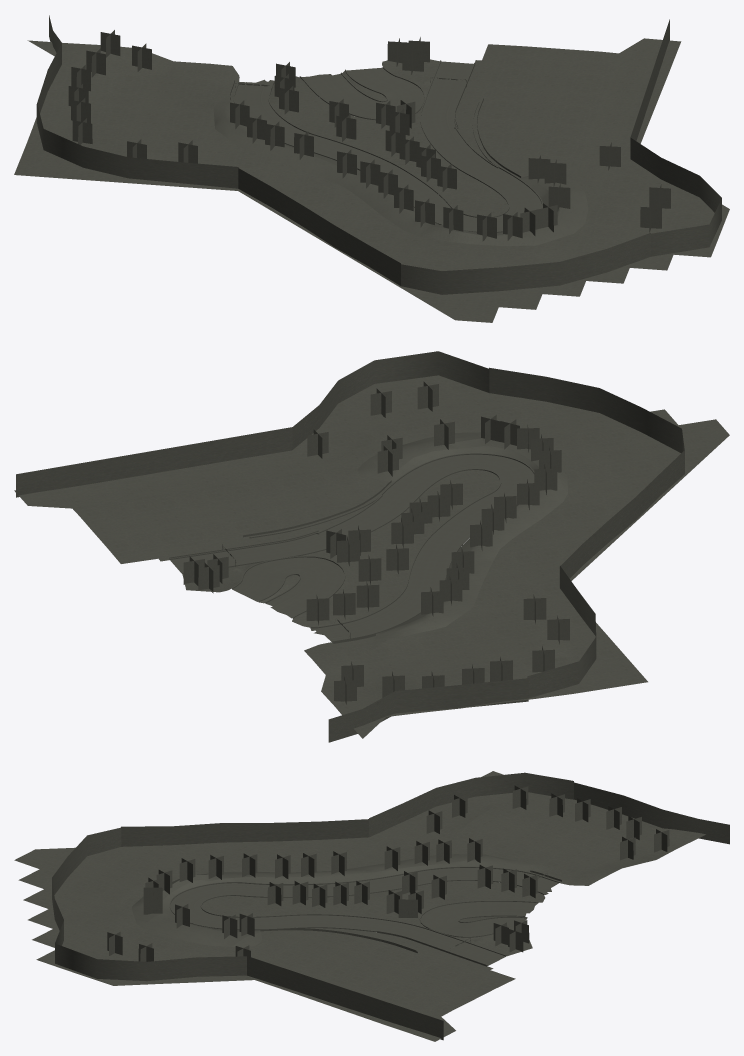
The model's file is drift1.glb.
The picture shows the model from 3 angles, top to bottom: view 1: azimuth 30°, elevation 25°; view 2: azimuth 150°, elevation 25°; view 3: azimuth 270°, elevation 25°; orthographic projection. The views are drawn at different scales.
Visible parts, largest first — view 1: drift1; view 2: drift1; view 3: drift1.
Part boxes in pixels (x1,y1,x2,y2): drift1: [14, 15, 729, 322]; drift1: [14, 351, 729, 742]; drift1: [14, 771, 729, 1041].
Bounding box in the file's own units: 439 × 19.55 × 486.
1 material, 1 textured.
